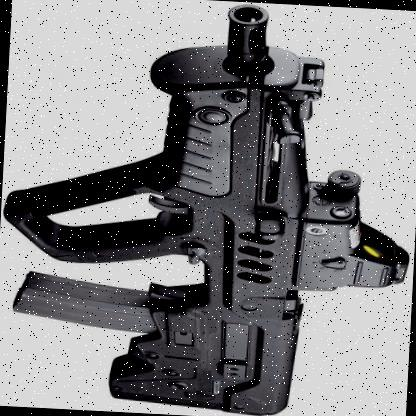rifle: (15, 0, 397, 413)
